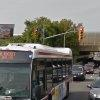Bus: (6, 37, 74, 100)
